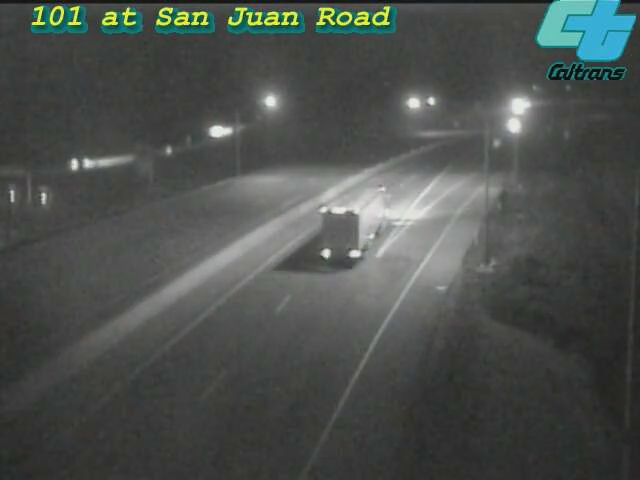vehicle: (319, 186, 399, 266), (488, 101, 538, 151), (491, 82, 541, 132)
